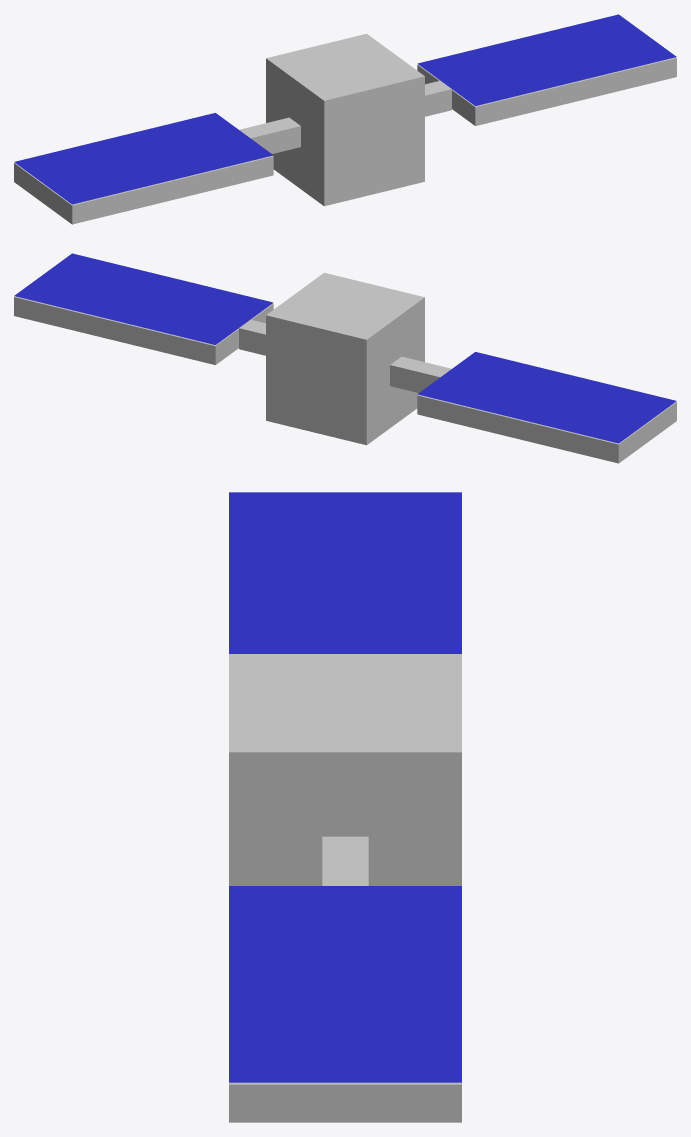
Rendered from SolarPowerTest.glb.
The picture shows the model from 3 angles, top to bottom: view 1: azimuth 30°, elevation 25°; view 2: azimuth 150°, elevation 25°; view 3: azimuth 270°, elevation 25°; orthographic projection. The views are drawn at different scales.
Visible parts, largest first — view 1: BaseCube, PanelBacks, SolarPanel_B, SolarPanel_A, SolarPanel_C, SolarPanel_D; view 2: BaseCube, PanelBacks, SolarPanel_B, SolarPanel_A, SolarPanel_C, SolarPanel_D; view 3: BaseCube, SolarPanel_A, SolarPanel_B, SolarPanel_D, SolarPanel_C, PanelBacks.
Part boxes in pixels (left/top/right/bottom): BaseCube: left=266, top=33, right=424, bottom=206; PanelBacks: left=14, top=57, right=676, bottom=224; SolarPanel_B: left=417, top=39, right=575, bottom=105; SolarPanel_A: left=518, top=14, right=676, bottom=81; SolarPanel_C: left=115, top=113, right=273, bottom=179; SolarPanel_D: left=14, top=137, right=172, bottom=204; BaseCube: left=266, top=272, right=424, bottom=445; PanelBacks: left=14, top=296, right=676, bottom=463; SolarPanel_B: left=115, top=278, right=273, bottom=344; SolarPanel_A: left=14, top=253, right=172, bottom=320; SolarPanel_C: left=417, top=352, right=575, bottom=418; SolarPanel_D: left=518, top=376, right=676, bottom=443; BaseCube: left=229, top=654, right=461, bottom=885; SolarPanel_A: left=229, top=984, right=461, bottom=1082; SolarPanel_B: left=229, top=886, right=461, bottom=984; SolarPanel_D: left=229, top=492, right=461, bottom=590; SolarPanel_C: left=229, top=590, right=461, bottom=653; PanelBacks: left=229, top=836, right=461, bottom=1122.
Size of the model in its own units: 6 by 1 by 1.
